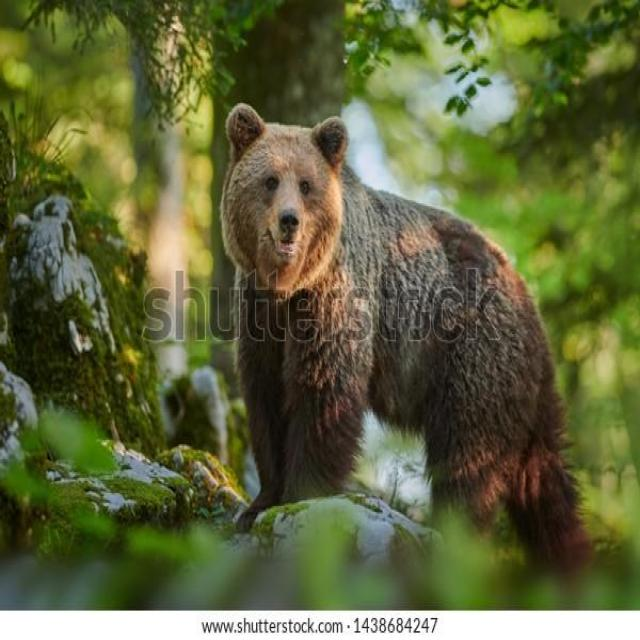Bear: (219, 103, 597, 583)
